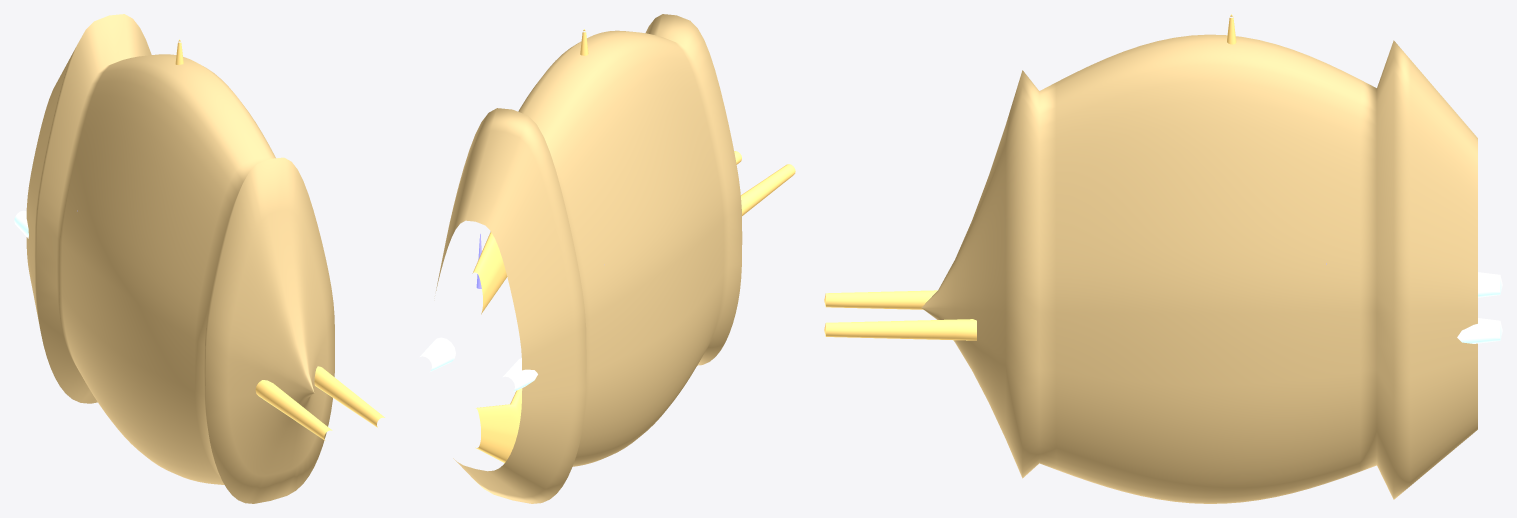
File: empire_cruiser.glb
The picture shows the model from 3 angles, left to right: view 1: azimuth 30°, elevation 25°; view 2: azimuth 150°, elevation 25°; view 3: azimuth 270°, elevation 25°; orthographic projection. The views are drawn at different scales.
Parts seen in each view (by area): view 1: empire_cruiser; view 2: empire_cruiser; view 3: empire_cruiser.
Part boxes in pixels (x1,y1,x2,y2): empire_cruiser: (14,14,384,503); empire_cruiser: (420,14,795,503); empire_cruiser: (824,14,1502,503).
Bounding box in the file's own units: 1.24 × 3.32 × 4.27.
